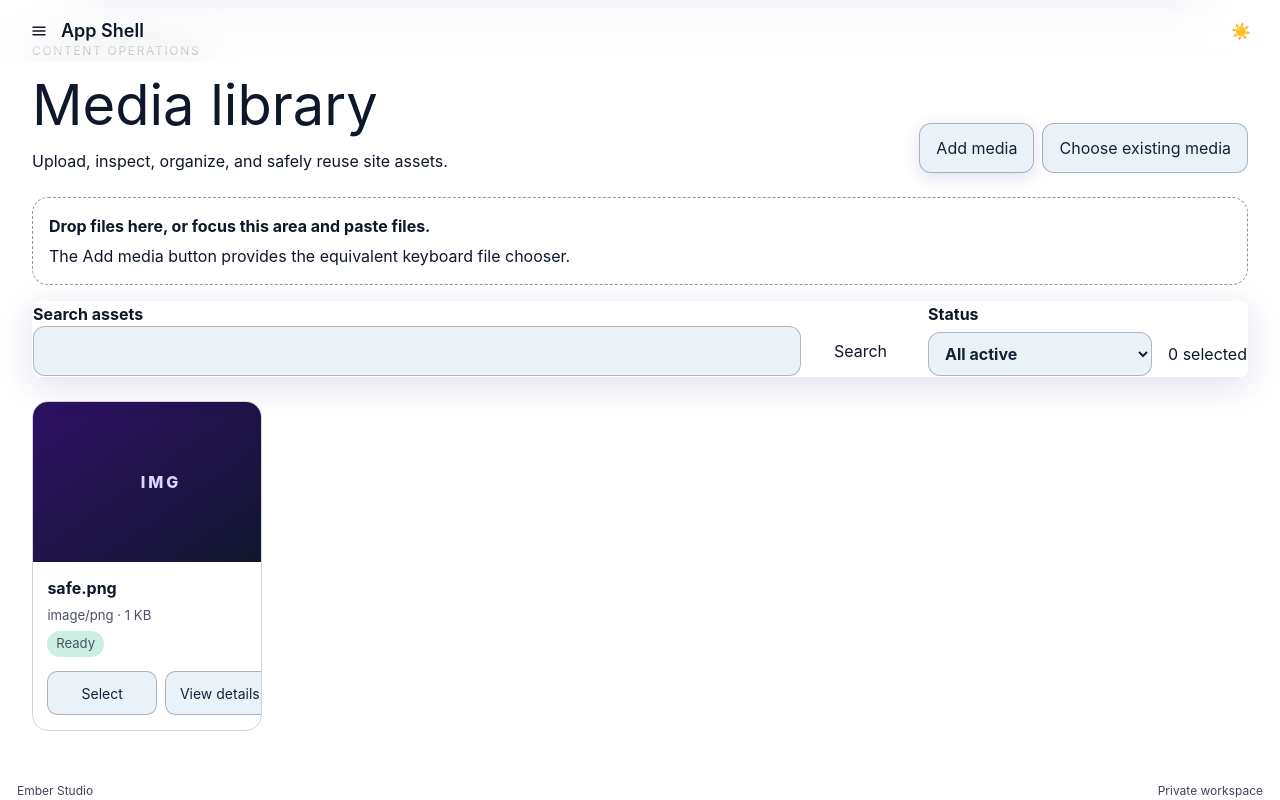
it: reports truthful partial bulk results and queues a bounded export
The image size is (1280, 800).
(page scrolled)
Click the button with aria-label "Select safe.png" at (102, 693), box [47,671,157,715]
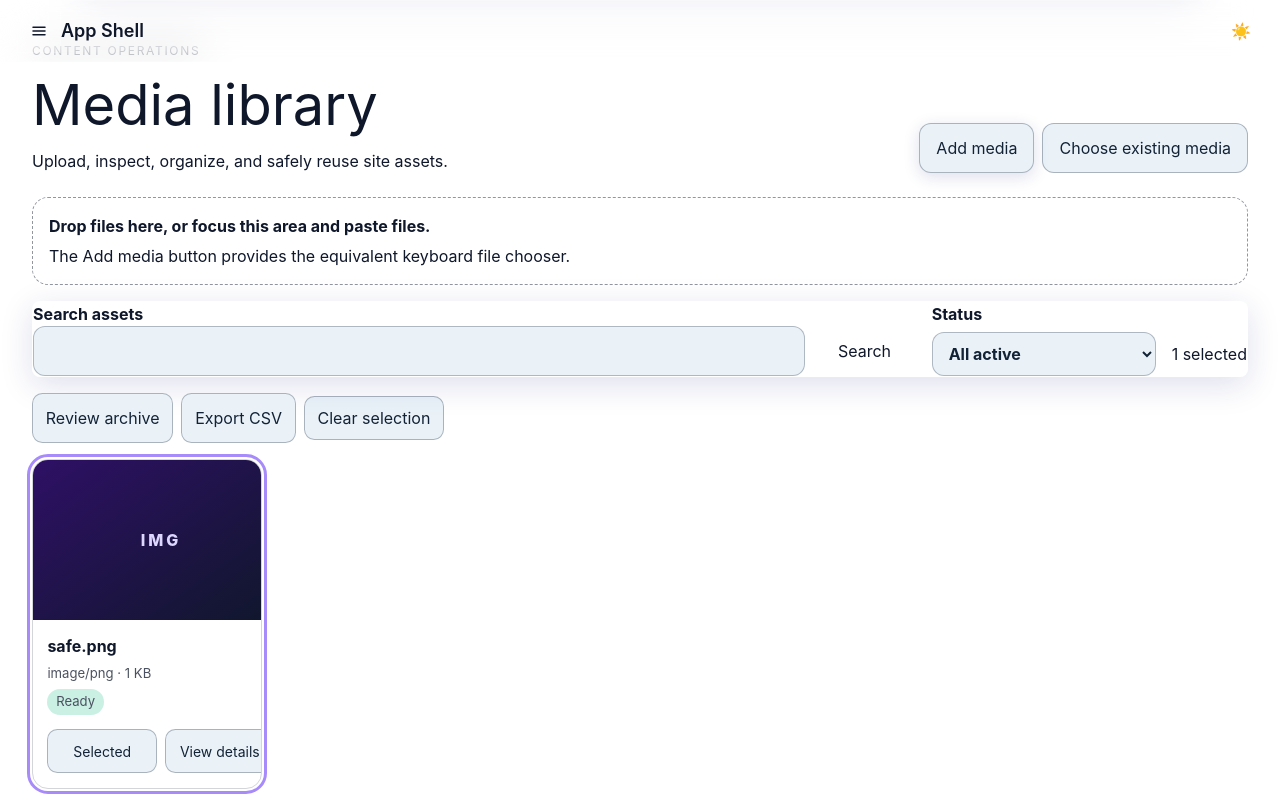
Click the button "Review archive" at (103, 418), box [32,393,173,443]
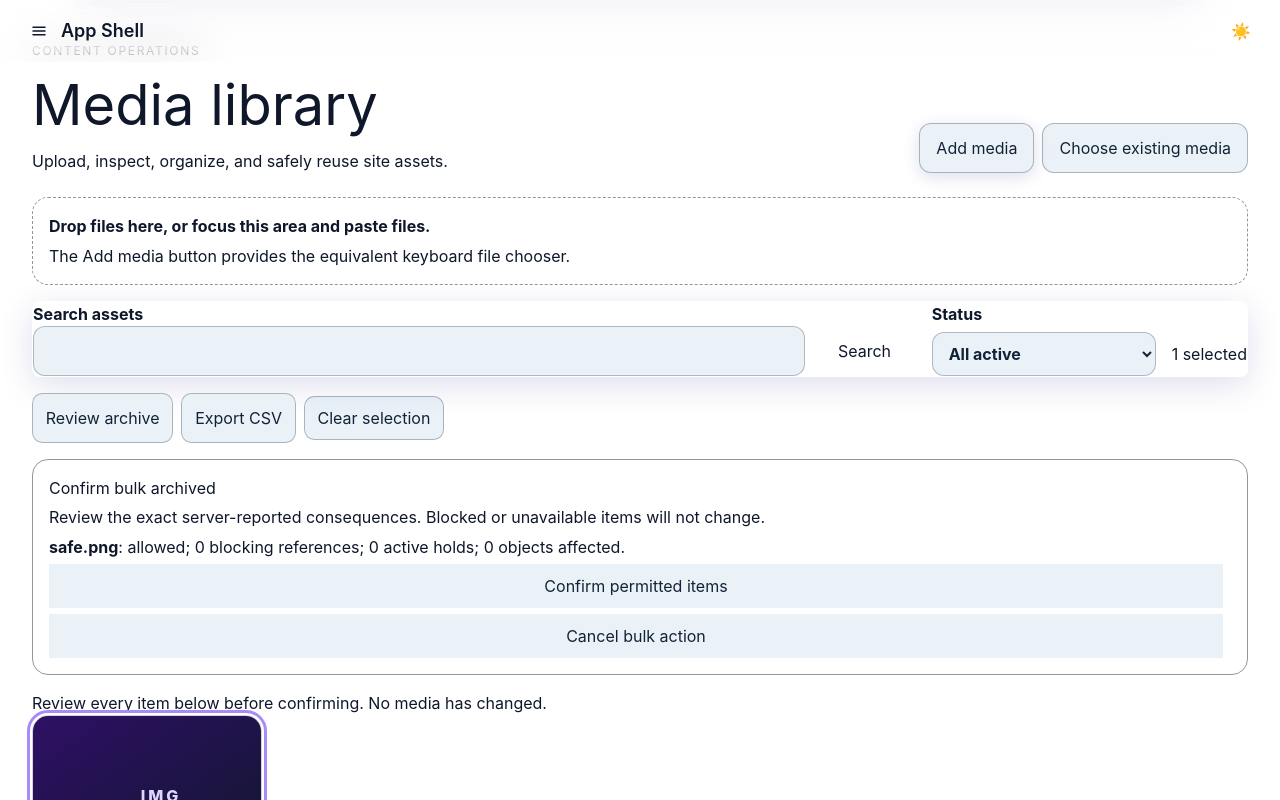
Expected: the list item "0 blocking references; 0 active holds" is shown, [49,537,625,557]
Click the button "Confirm permitted items" at (636, 586), box [49,564,1223,608]
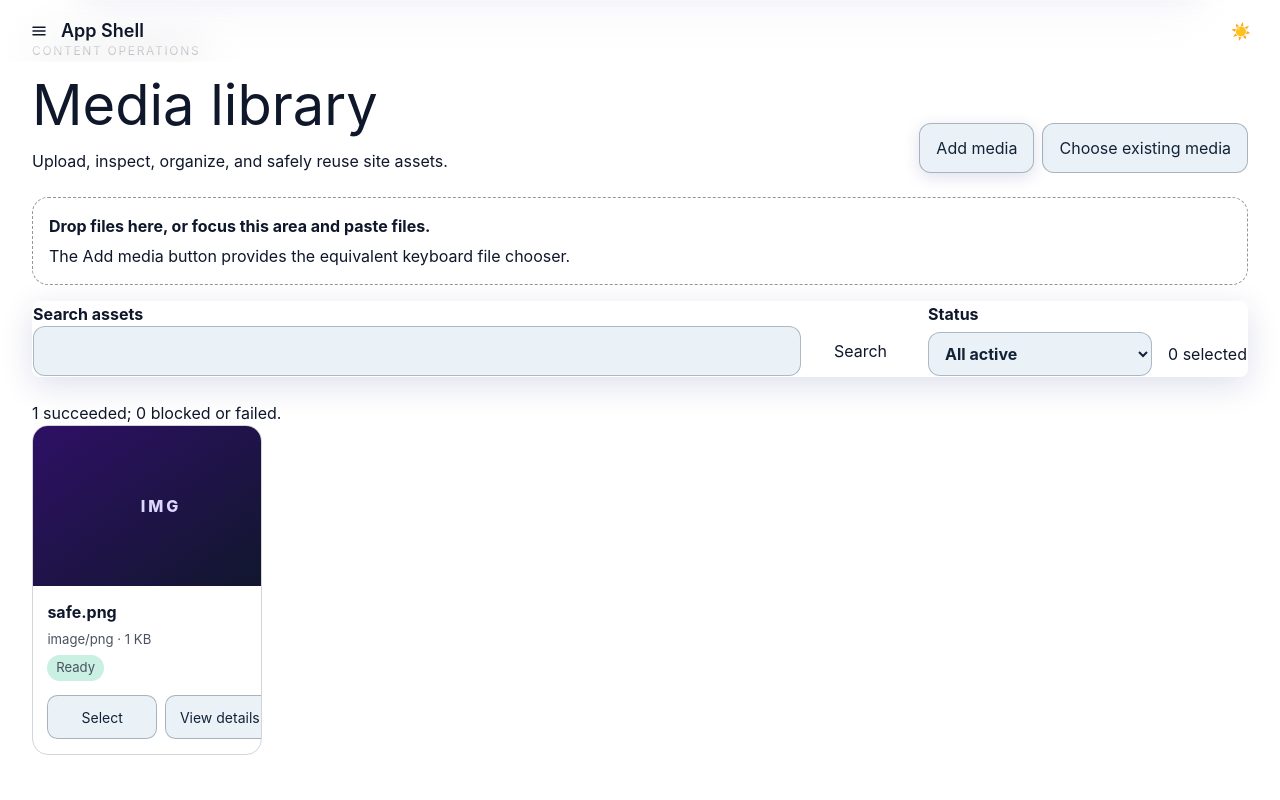
Expected: the text "1 succeeded; 0 blocked or failed." is shown, [32,403,281,423]
Click the button with aria-label "Select safe.png" at (102, 717), box [47,695,157,739]
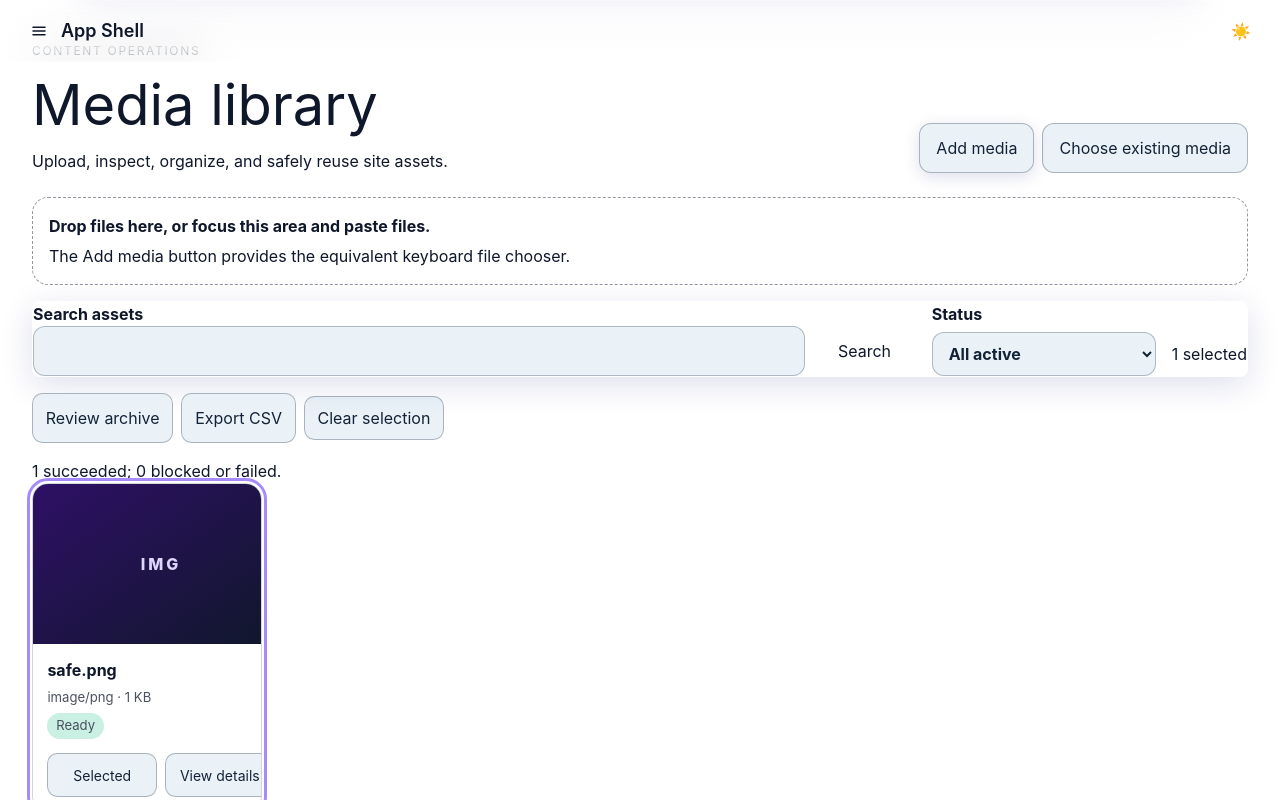
Click the button "Export CSV" at (239, 418), box [181,393,296,443]
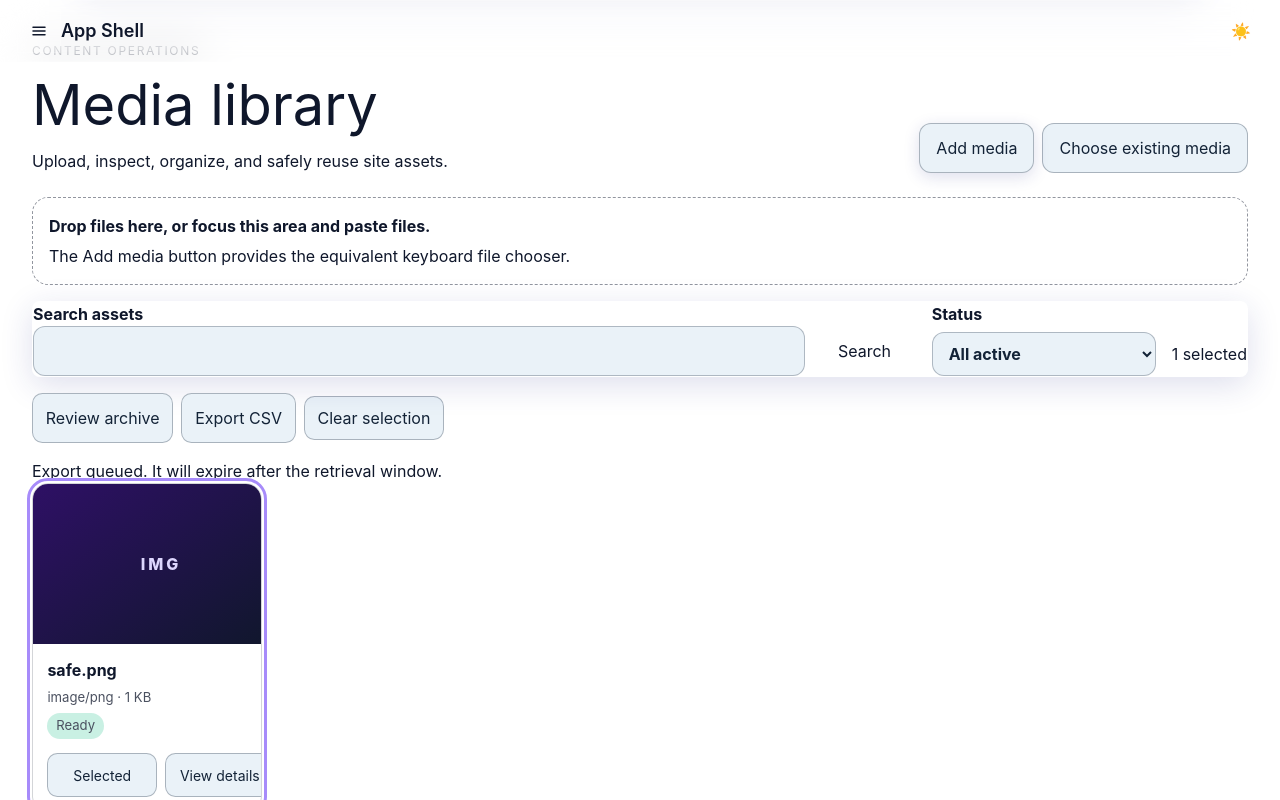
Expected: the text "Export queued. It will expire after the retrieval window." is shown, [32,461,442,481]
